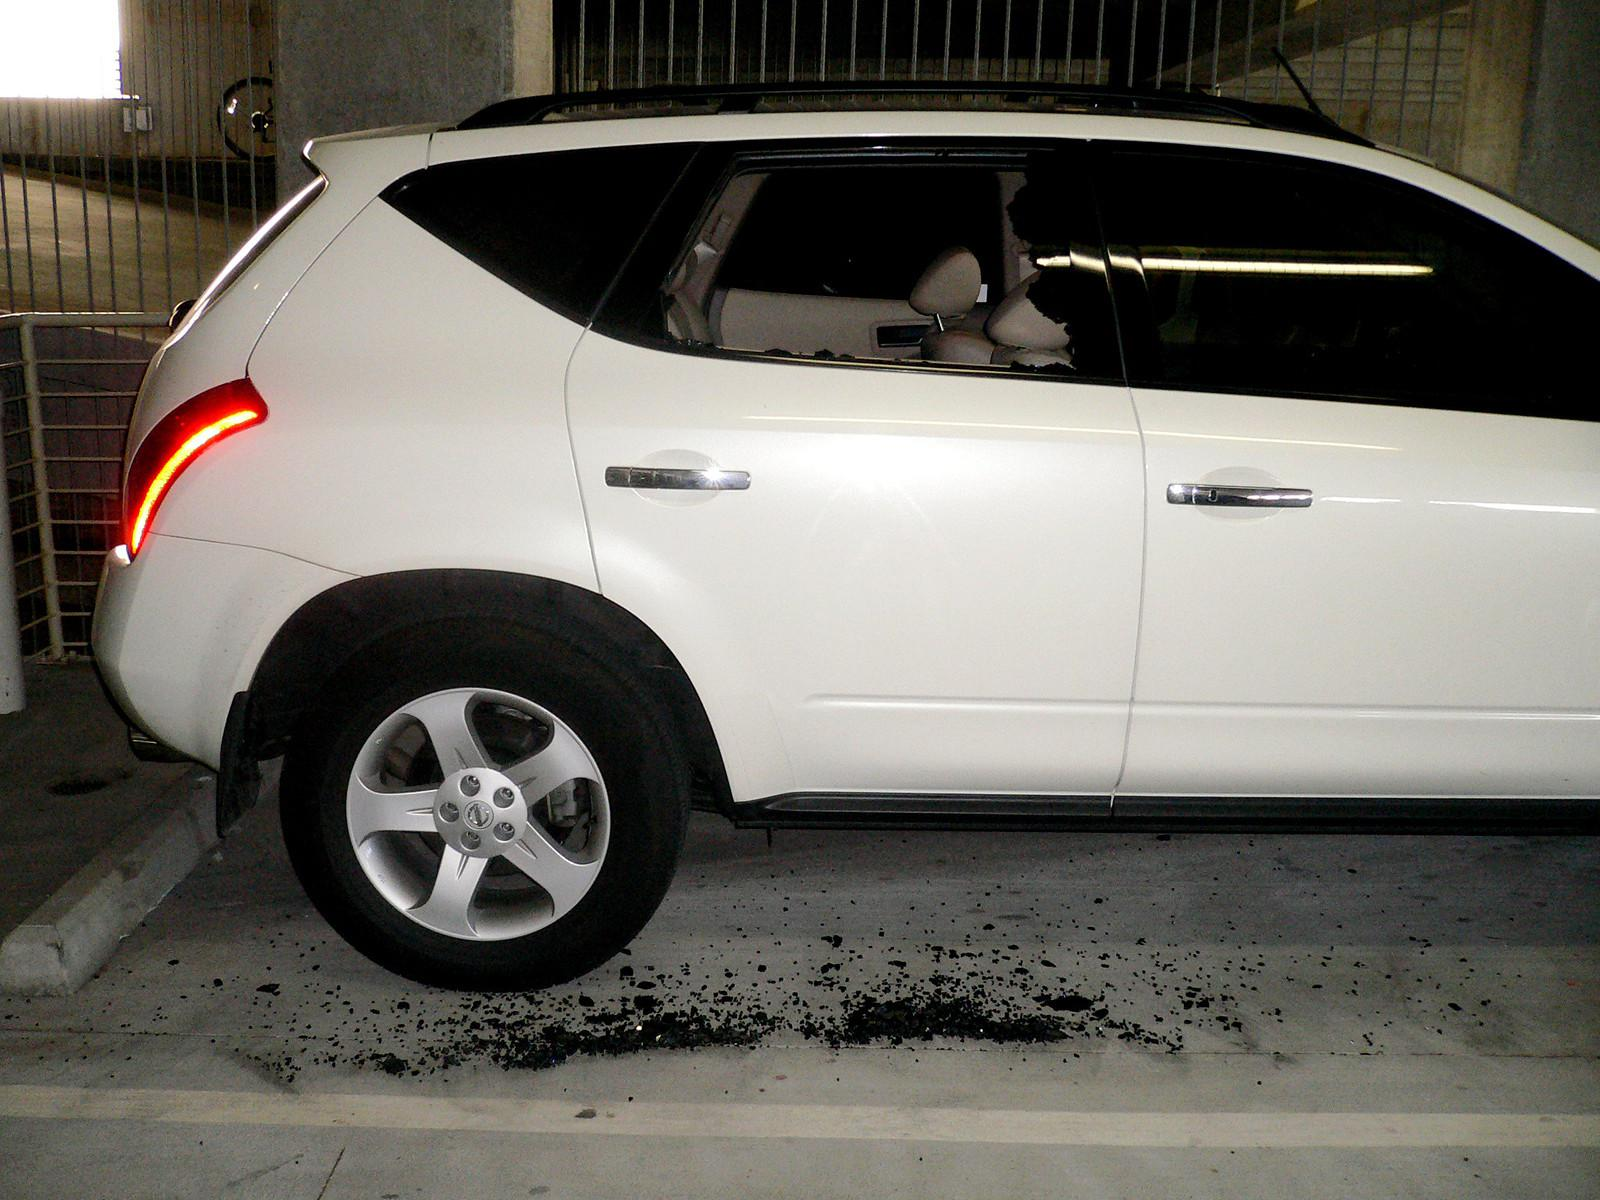doorouter-dent: (631, 166, 1120, 671)
